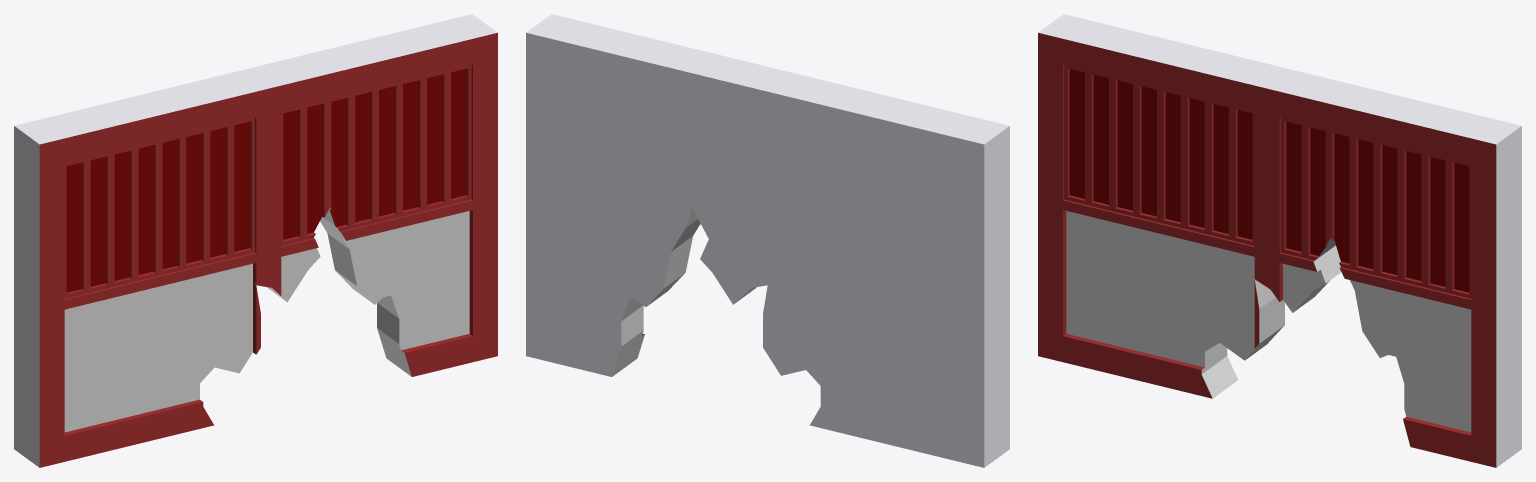
File: Asian_Prop_Building_Modular_Wall_Slats_Damaged_02.FBX
3 renders of one model, left to right at view 1: azimuth 30°, elevation 25°; view 2: azimuth 150°, elevation 25°; view 3: azimuth 330°, elevation 25°, orthographic.
Visible parts, largest first — view 1: Asian_Prop_Building_Modular_Wall_Slats_Damaged_02; view 2: Asian_Prop_Building_Modular_Wall_Slats_Damaged_02; view 3: Asian_Prop_Building_Modular_Wall_Slats_Damaged_02.
Boxes of the visible parts, x1=… form: Asian_Prop_Building_Modular_Wall_Slats_Damaged_02: x1=14, y1=14, x2=497, y2=467; Asian_Prop_Building_Modular_Wall_Slats_Damaged_02: x1=526, y1=14, x2=1009, y2=467; Asian_Prop_Building_Modular_Wall_Slats_Damaged_02: x1=1038, y1=14, x2=1521, y2=467.
Size of the model in its own units: 5167 by 3485 by 500.
